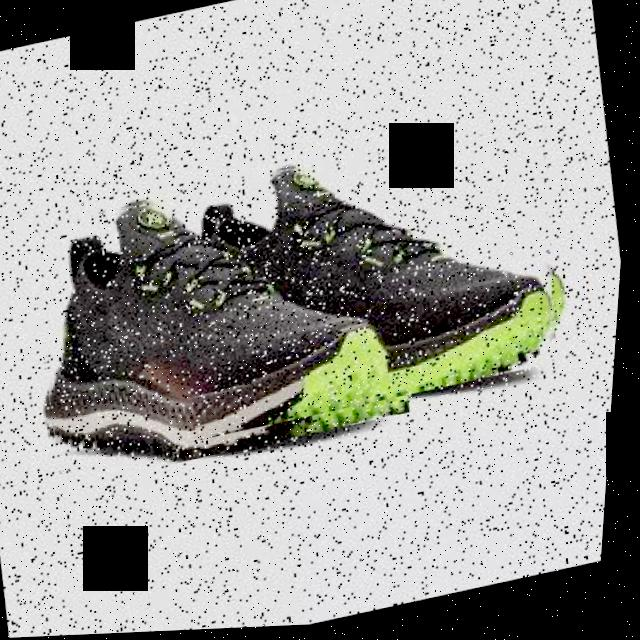shoe: (158, 112, 592, 444), (14, 148, 429, 492)
